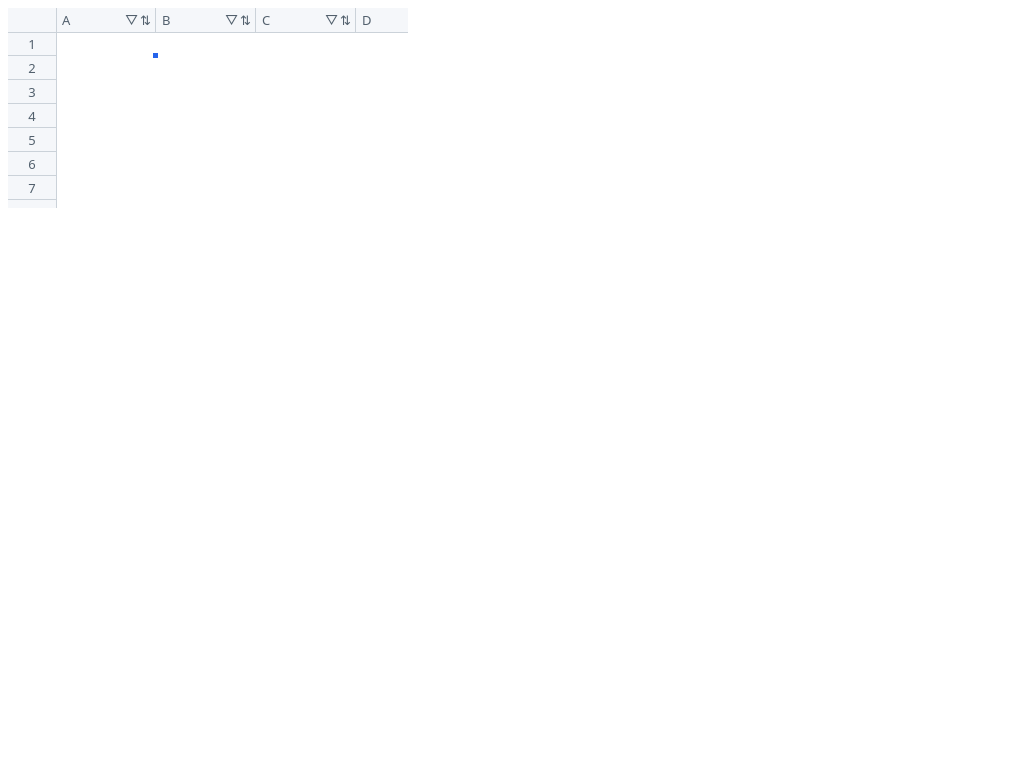
Test: LatticaGrid context menu › closes on backdrop click
The width and height of the screenshot is (1024, 768).
Right-click the table with test id "lattica-grid" at (208, 108), box [8, 8, 408, 208]
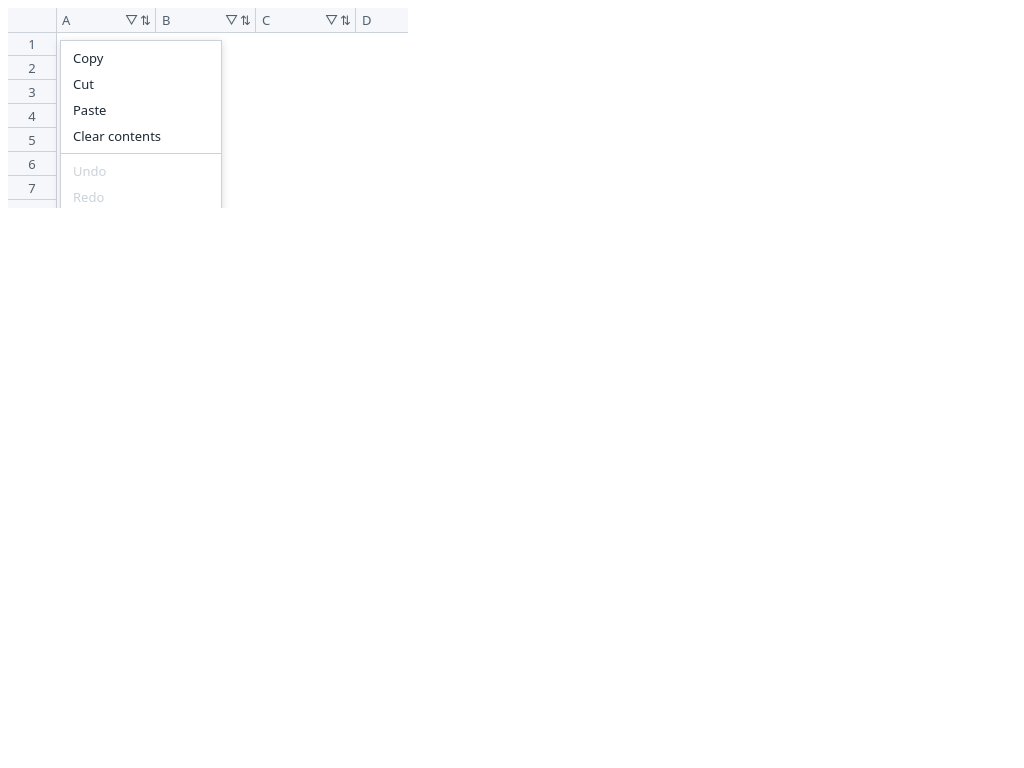
Press the mouse on the element with test id "lattica-menu-backdrop" at (512, 384), box [0, 0, 1023, 767]
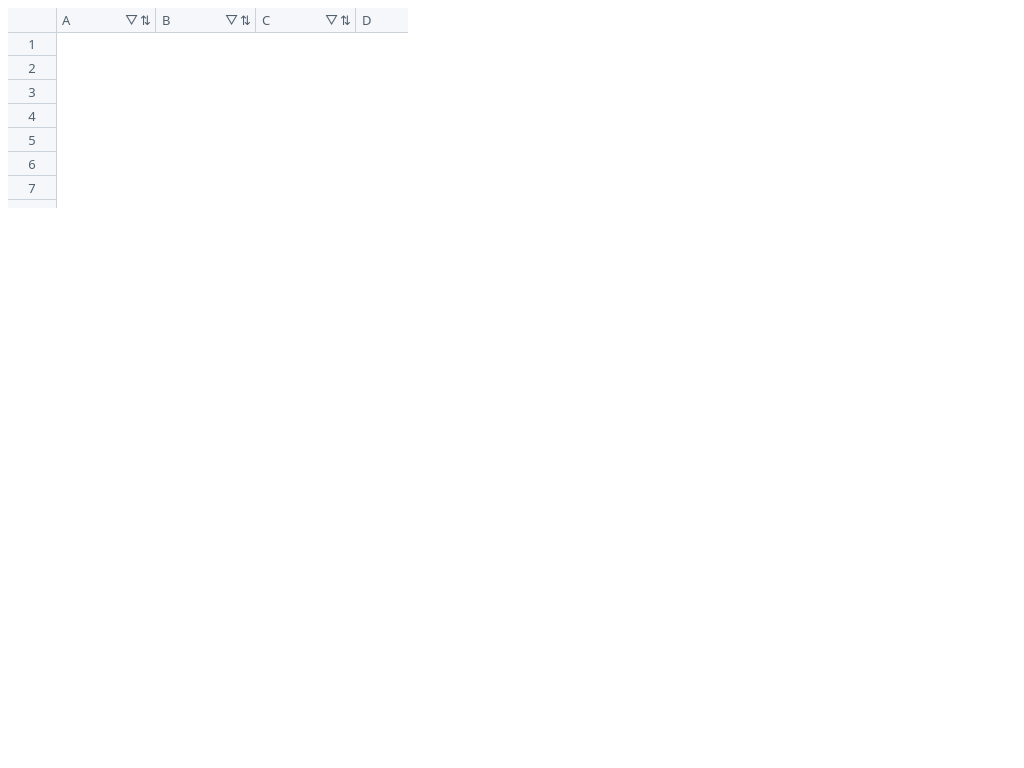
Result: the menu with test id "lattica-menu" is gone
